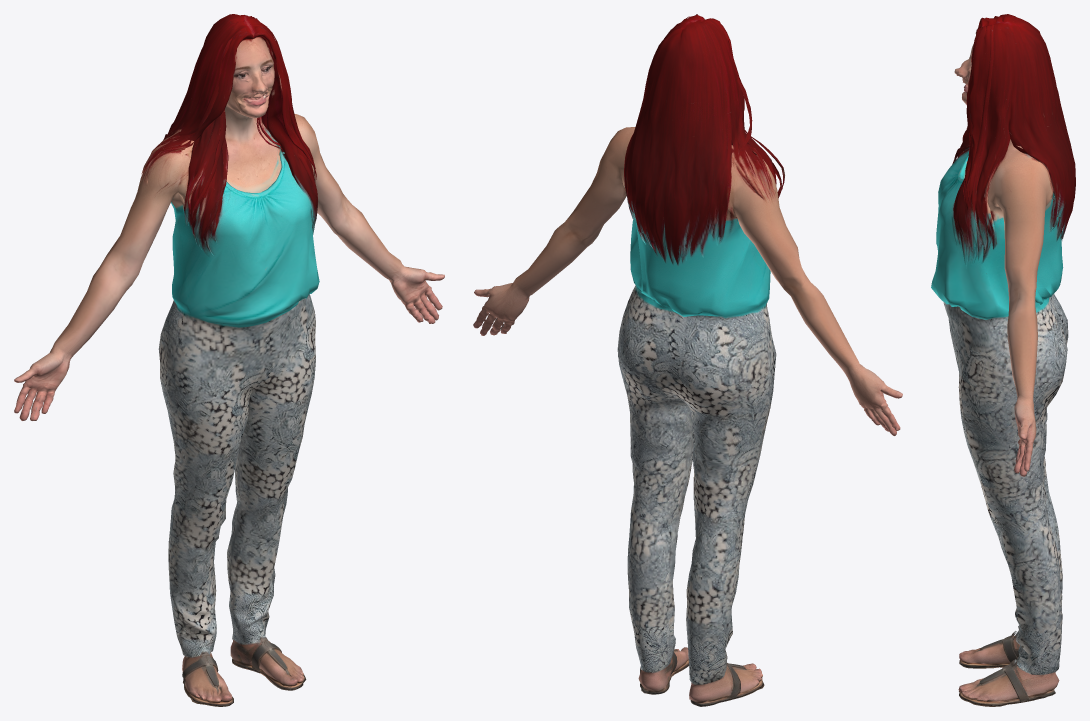
The model's file is Meshy_AI_Turquoise_Welcome_20261023_texture.obj.
The picture shows the model from 3 angles, left to right: view 1: azimuth 30°, elevation 25°; view 2: azimuth 150°, elevation 25°; view 3: azimuth 270°, elevation 25°; orthographic projection.
Parts seen in each view (by area): view 1: Meshy_AI_Turquoise_Welcome_20261023_texture; view 2: Meshy_AI_Turquoise_Welcome_20261023_texture; view 3: Meshy_AI_Turquoise_Welcome_20261023_texture.
Part boxes in pixels (bbox=[...]): Meshy_AI_Turquoise_Welcome_20261023_texture: bbox=[14, 14, 444, 706]; Meshy_AI_Turquoise_Welcome_20261023_texture: bbox=[473, 14, 902, 706]; Meshy_AI_Turquoise_Welcome_20261023_texture: bbox=[931, 14, 1075, 706].
Bounding box in the file's own units: 0.644 × 0.9507 × 0.1885.
1 material, 1 textured.
